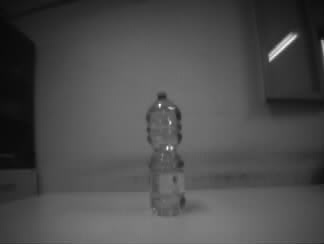Bottle: (146, 92, 188, 218)
